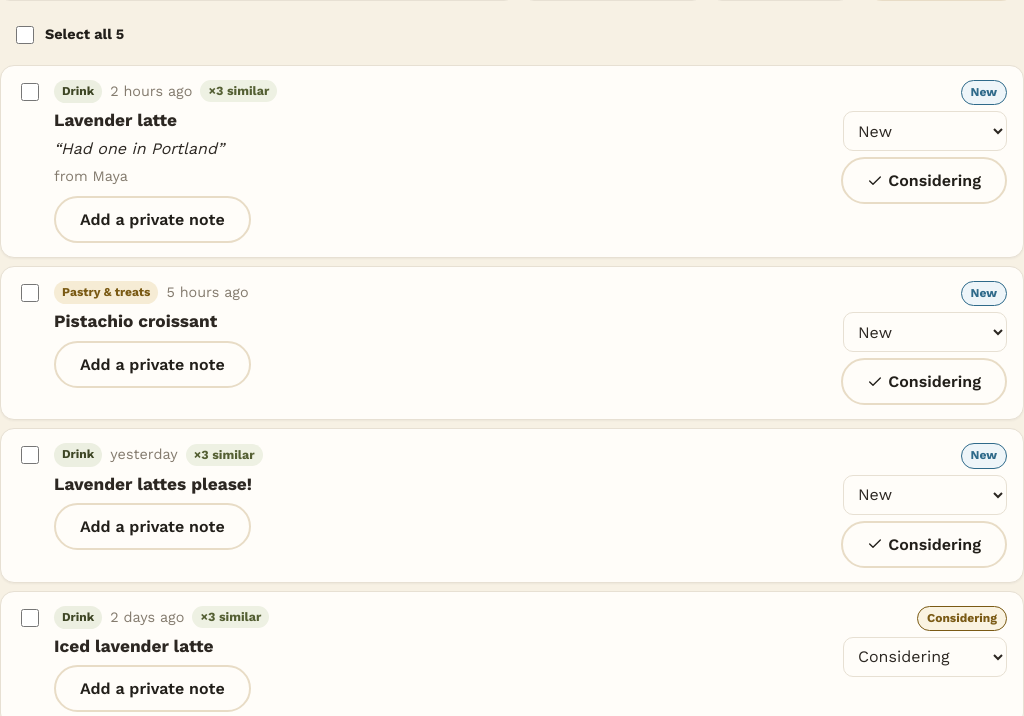
admin Wish list › a status change saves at once, with a "Saved" toast
(page scrolled)
Expected: the text "Pistachio croissant" is shown, [54,311,217,331]
Select "Added to menu" in the 2nd dropdown named "Status of “Pistachio croissant”": (925, 332) [843,312,1007,352]
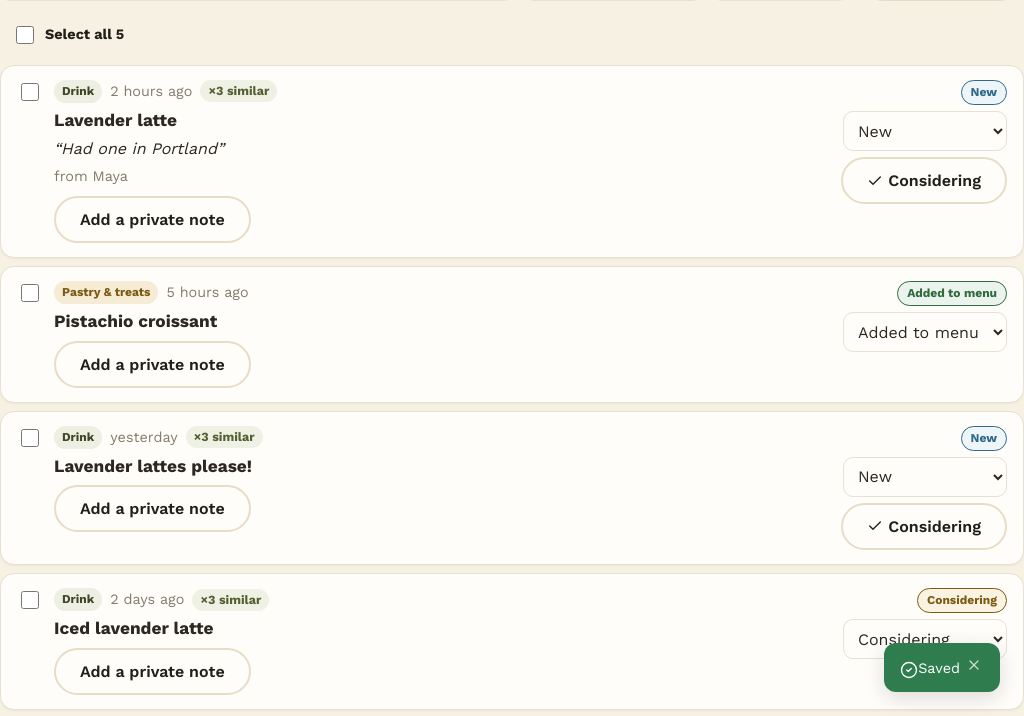
Expected: the text "Saved" is shown, [918,660,960,676]
